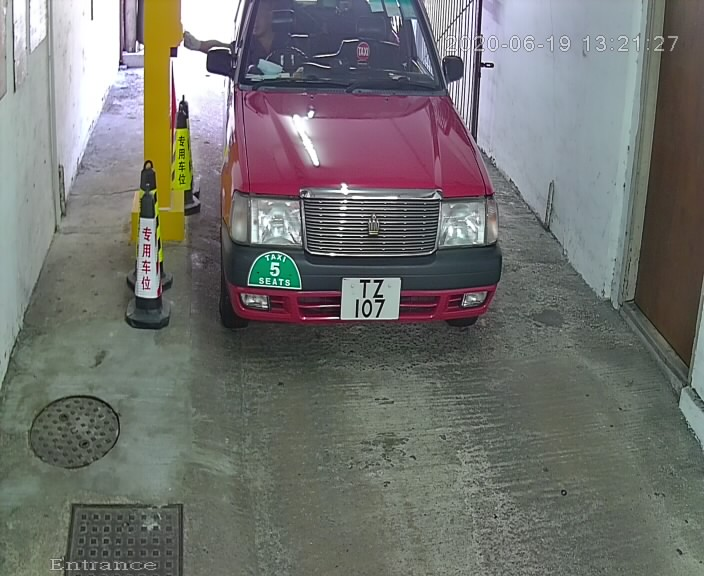taxi: (196, 1, 511, 351)
taxi_mark: (243, 246, 304, 298)
